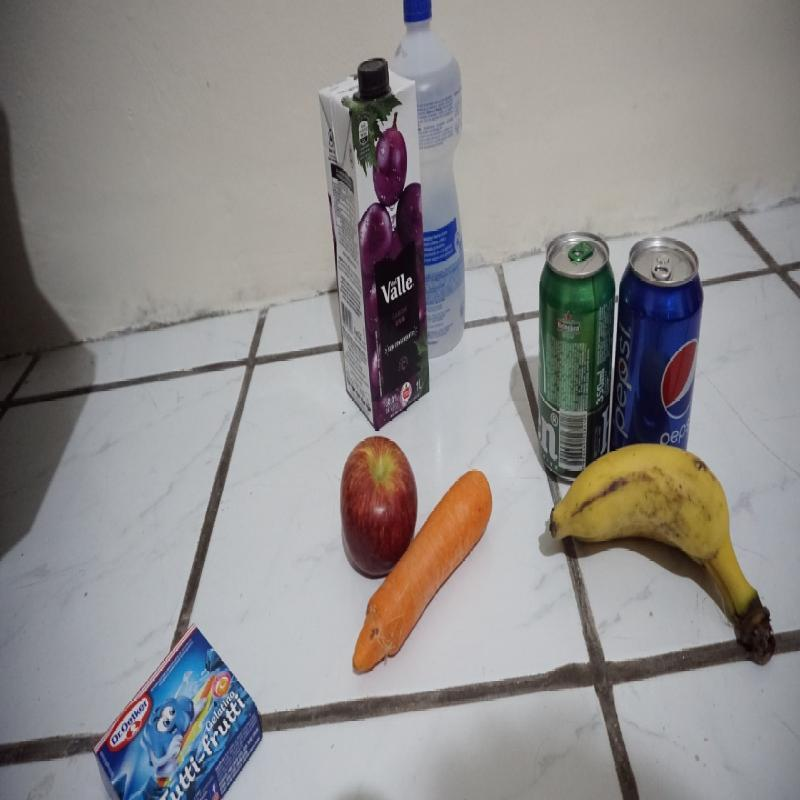Alcohol Bottle: (396, 2, 468, 362)
Apple: (340, 435, 418, 577)
Banana: (549, 445, 773, 663)
Beer can: (537, 226, 617, 486)
Carrot: (352, 467, 492, 676)
Gelatine: (91, 624, 264, 799)
Soda can: (610, 232, 703, 480)
